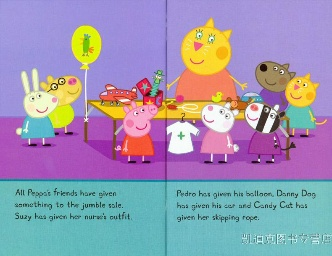Peppa: (113, 102, 160, 164)
